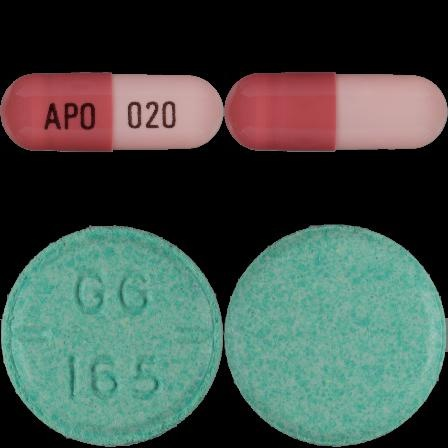68151-3088: (0, 0, 224, 224)
